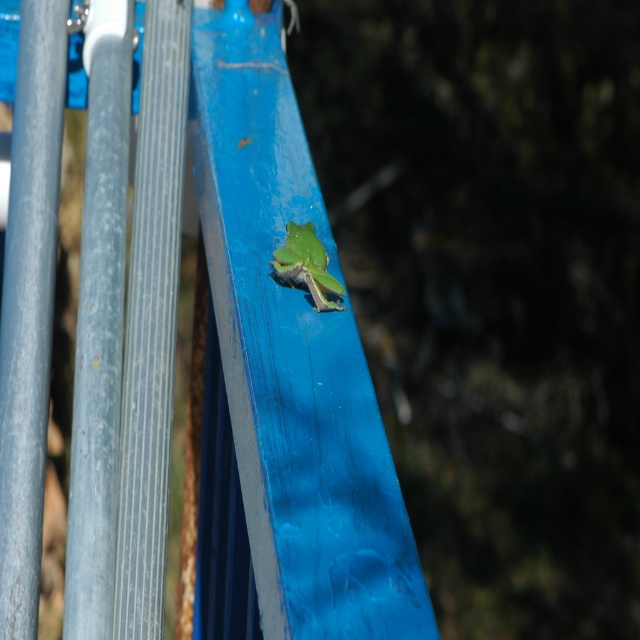Frog: (270, 220, 346, 314)
